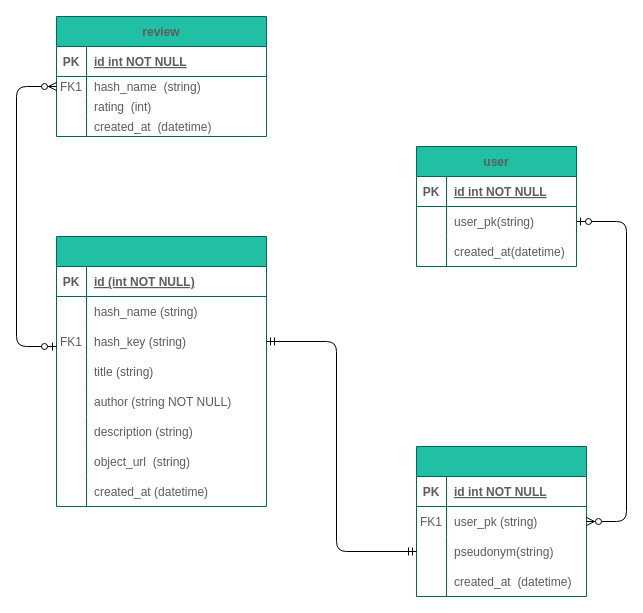
Some shapes in this 643 by 613 pixel diagram are drawn without their labels. The shapes that lost their labels are listed below. From the top down, each one's box as (x1, y1, x2, y2) in pixels, then its label:
(56, 236, 266, 506): documents
(416, 446, 586, 596): hash_keys
